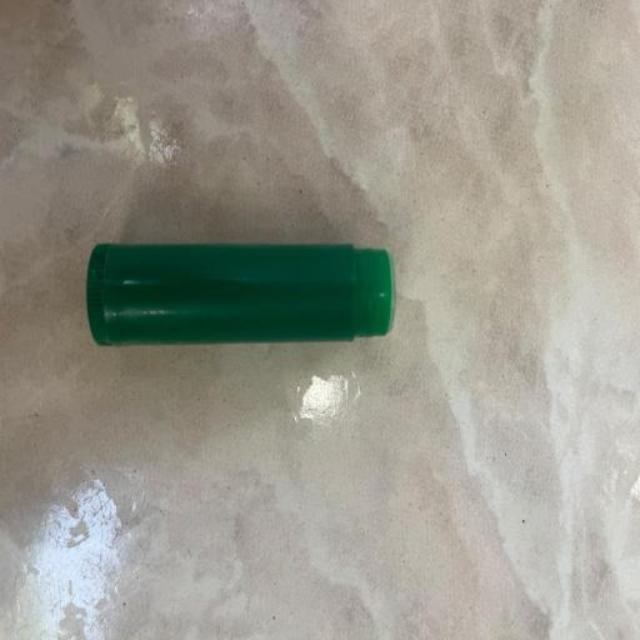HDPE: (87, 235, 432, 365)
